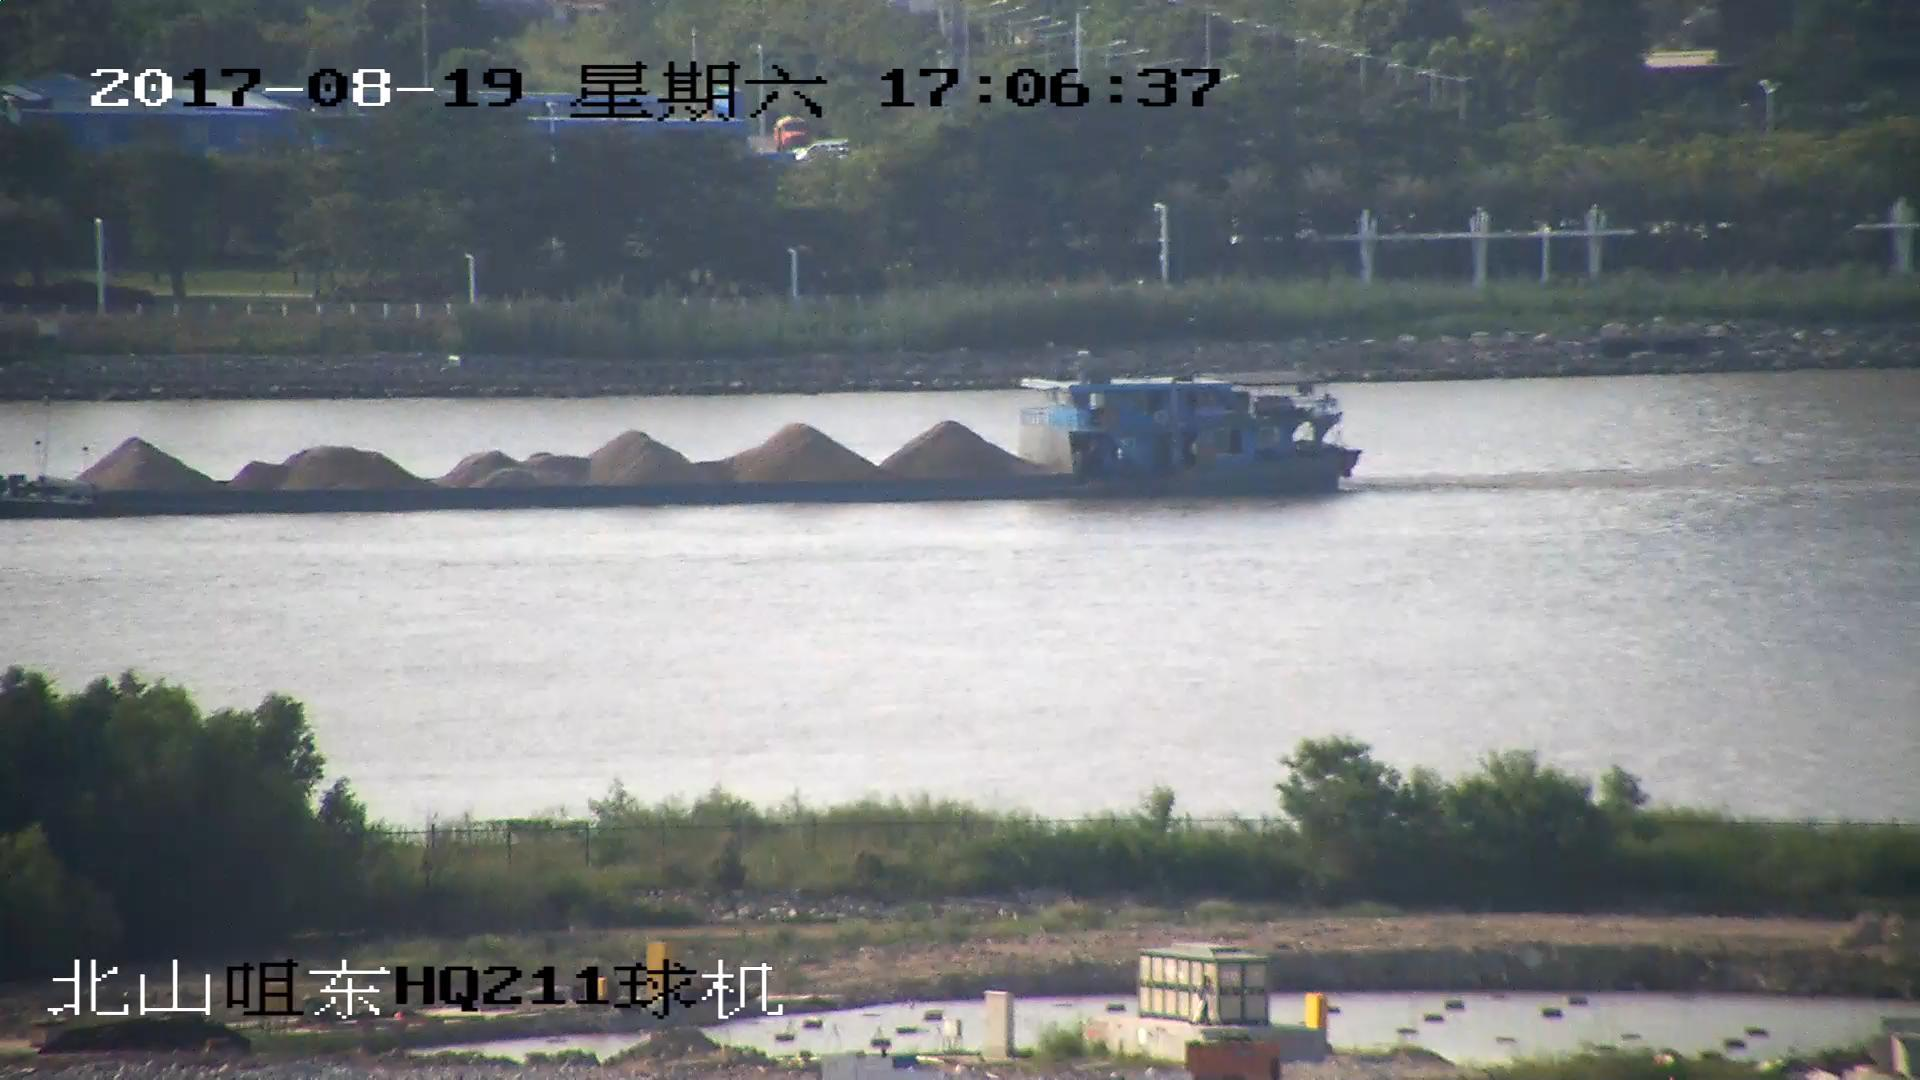Ship: (3, 348, 1360, 524)
